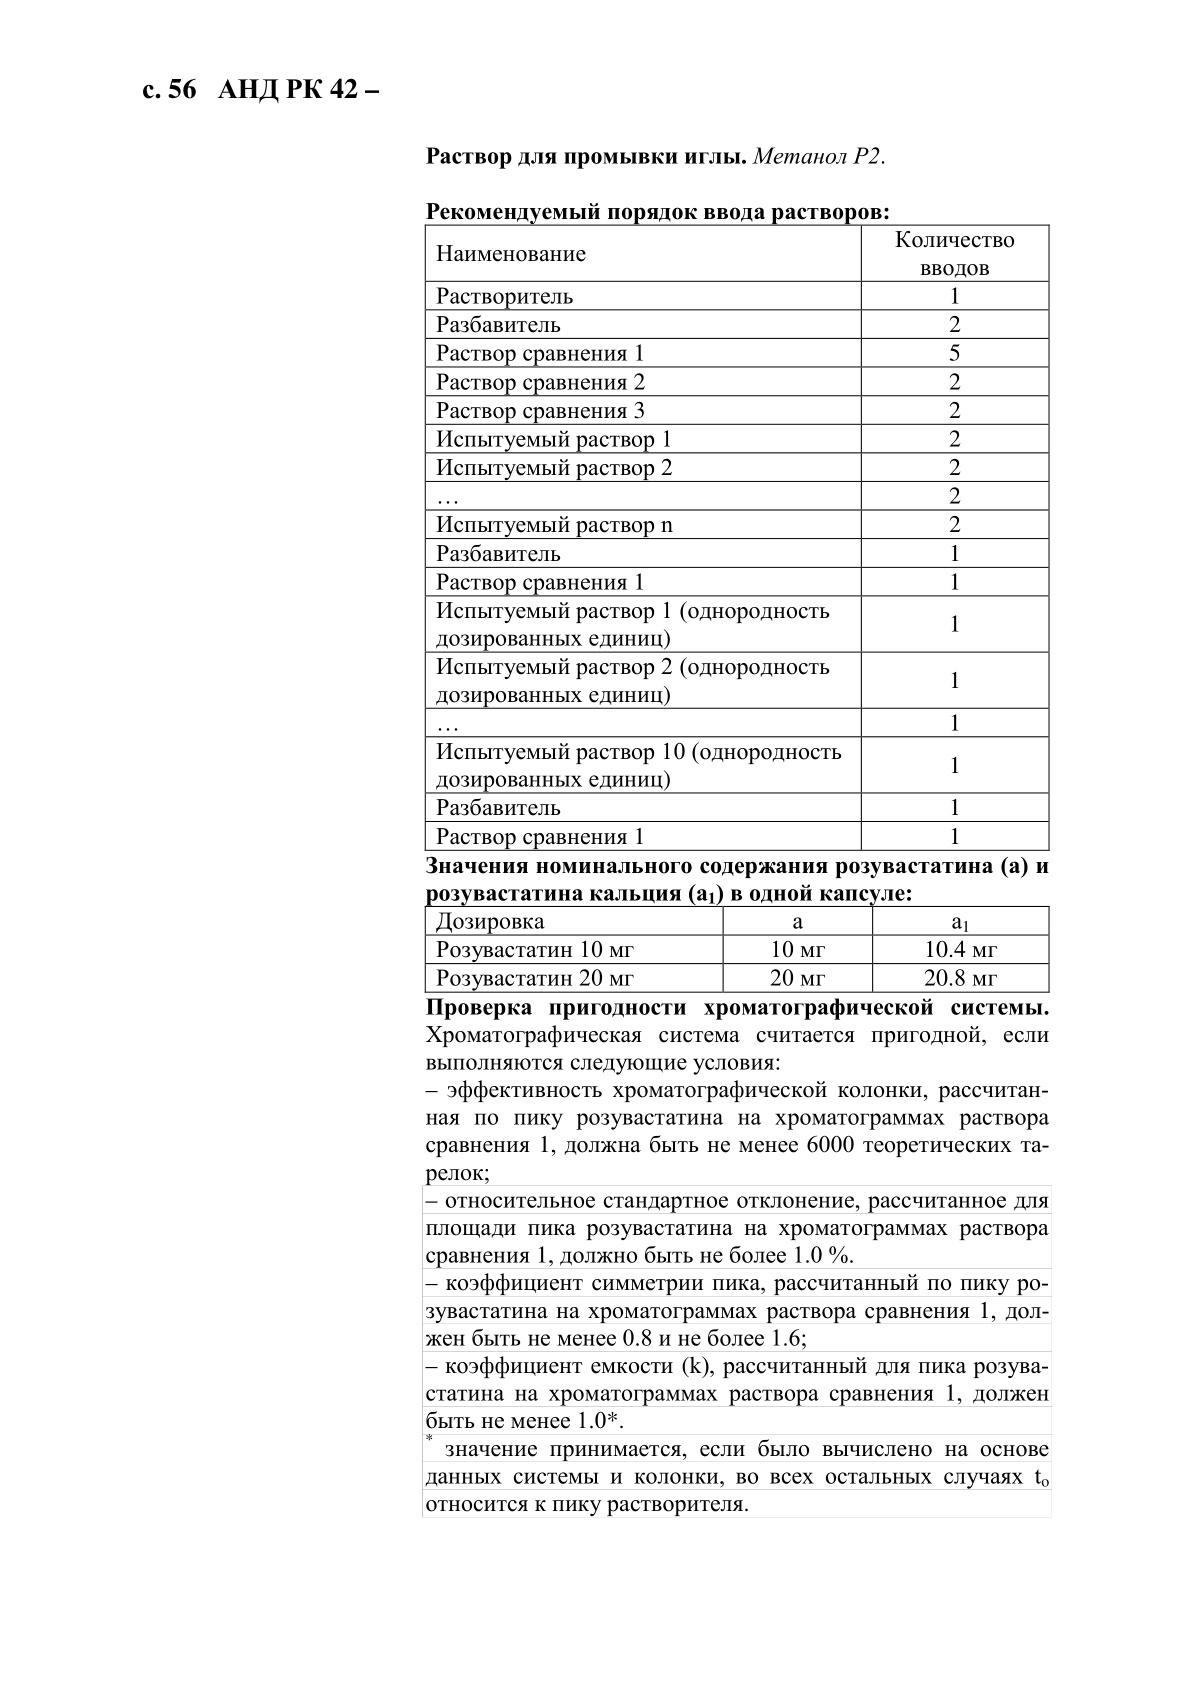full_lined: (424, 223, 1051, 852), (424, 904, 1051, 993)
